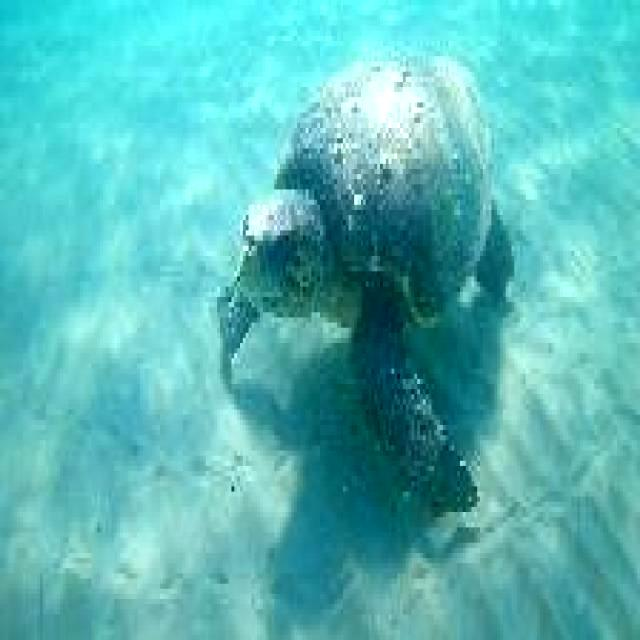Sea turtle: (210, 41, 520, 526)
